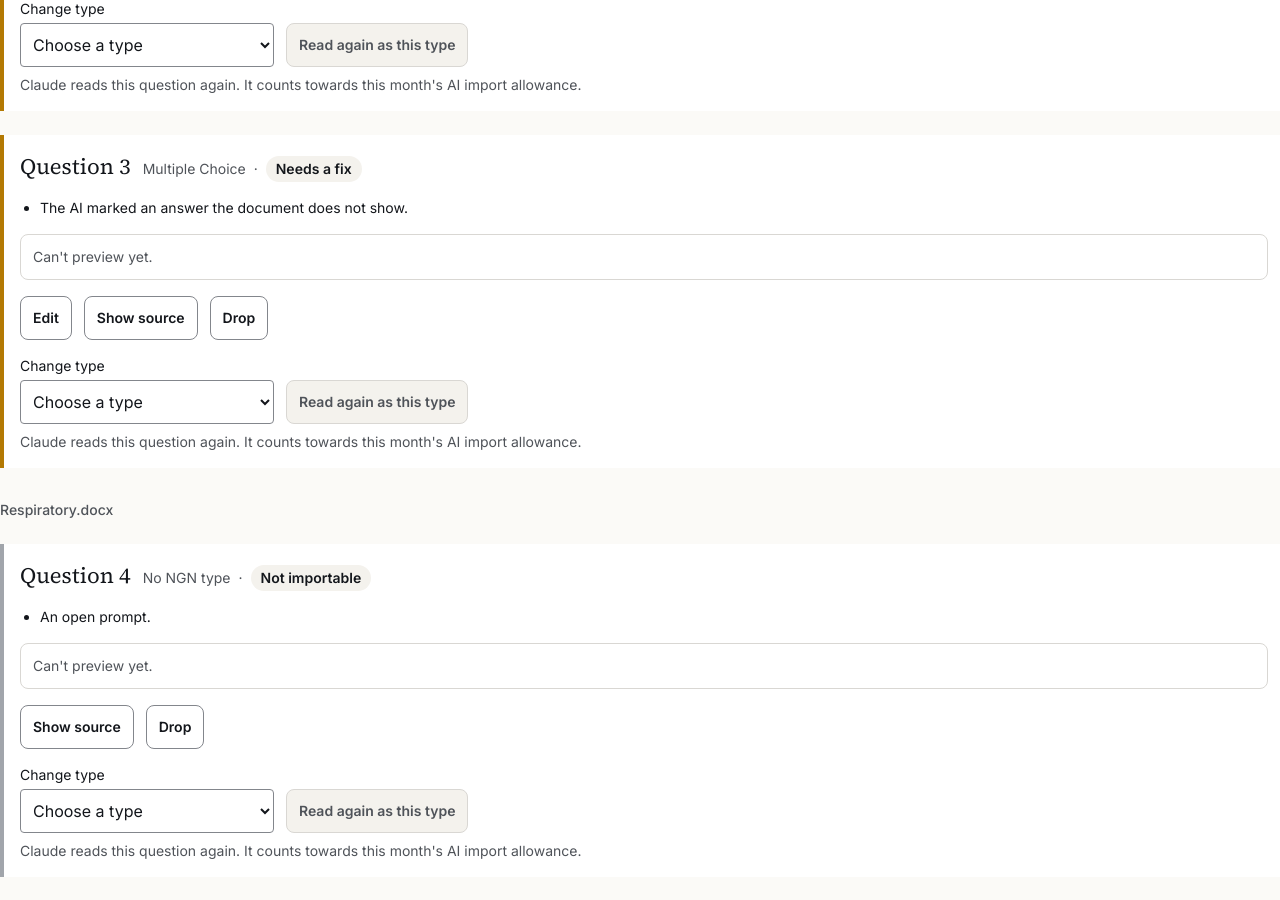
Test: AiImportReview (#346) › changes the type by reading the question again, says it costs, and reloads
(page scrolled)
Check: the text "counts towards this month's AI import allowance" below "Question 3" is shown, box x1=20 y1=434 x2=582 y2=450
Select "Bowtie" in the dropdown labelled "Change type" below "Question 3": {"x": 147, "y": 402} x1=20 y1=380 x2=274 y2=424
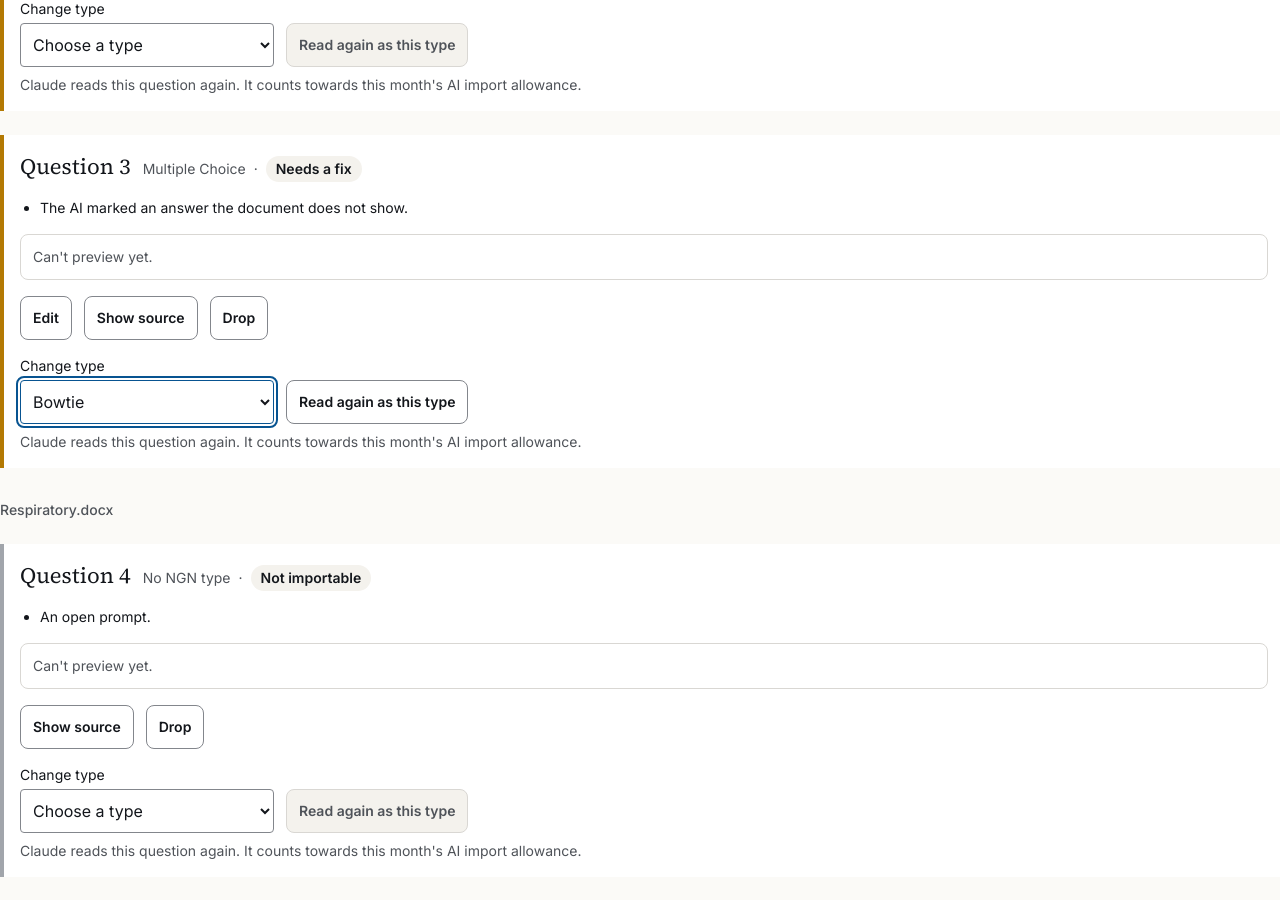
Click the button "Read again as this type" below "Question 3": {"x": 377, "y": 402} x1=286 y1=380 x2=468 y2=424
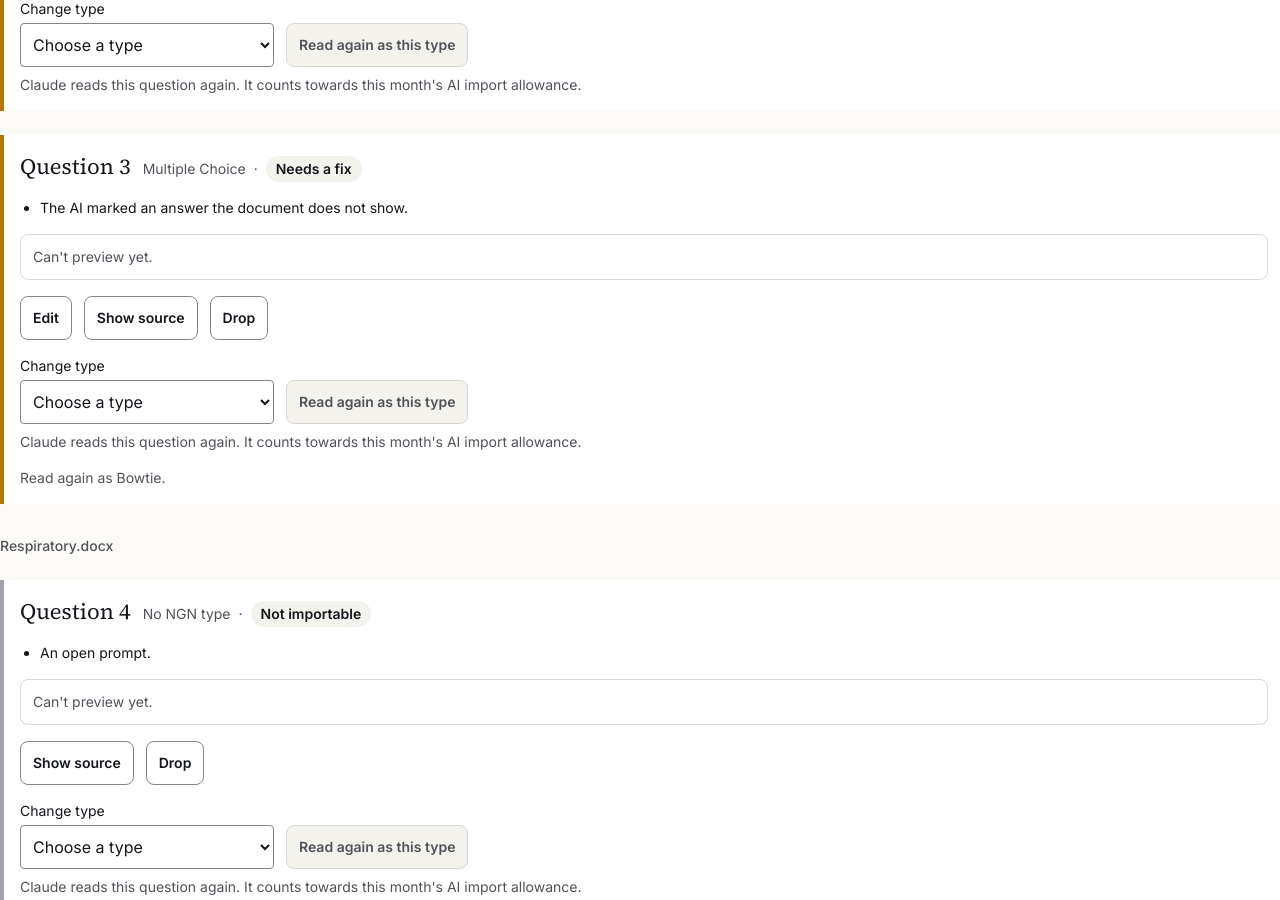
Check: the message reads "Read again as Bowtie.", box x1=20 y1=470 x2=166 y2=486
